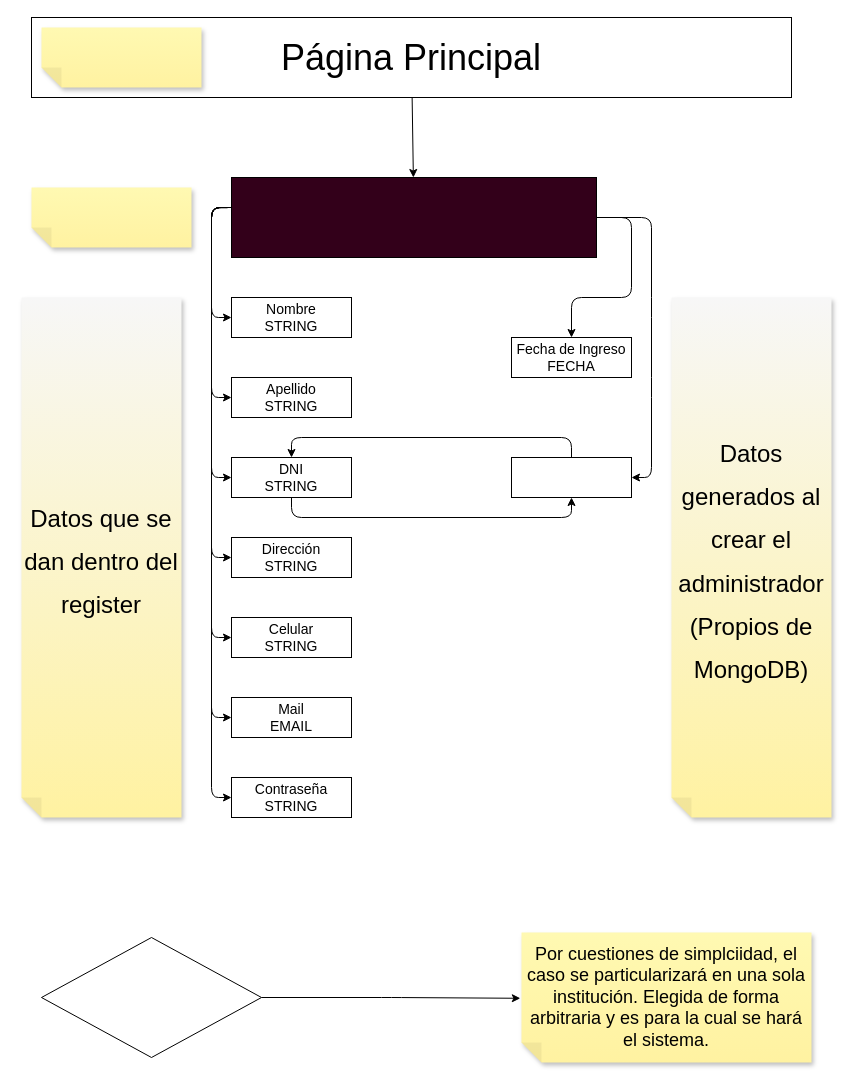
This 854x1087 diagram has some shape labels left out. Each missing label, with the centre of its shape:
Administrador: the point at 413,217
Disclaimer: the point at 151,997
Lugar en las páginas: the point at 122,58
Mongo_ID: the point at 571,477
Usuario generado: the point at 112,218
